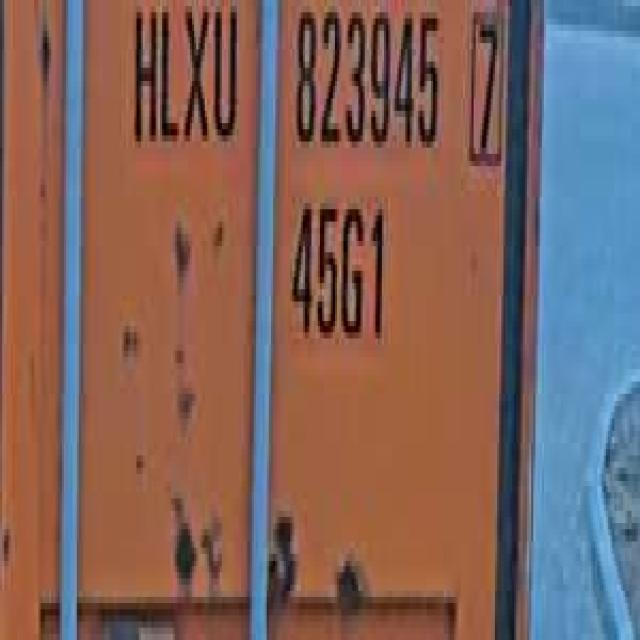dv: (463, 0, 508, 178)
owner: (126, 0, 241, 160)
serial: (288, 0, 444, 166)
size: (286, 185, 390, 357)
